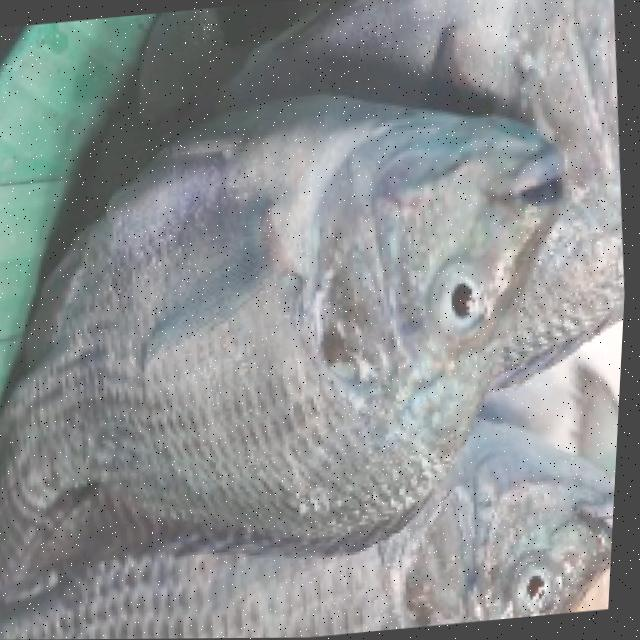Fresh: (0, 77, 618, 543)
